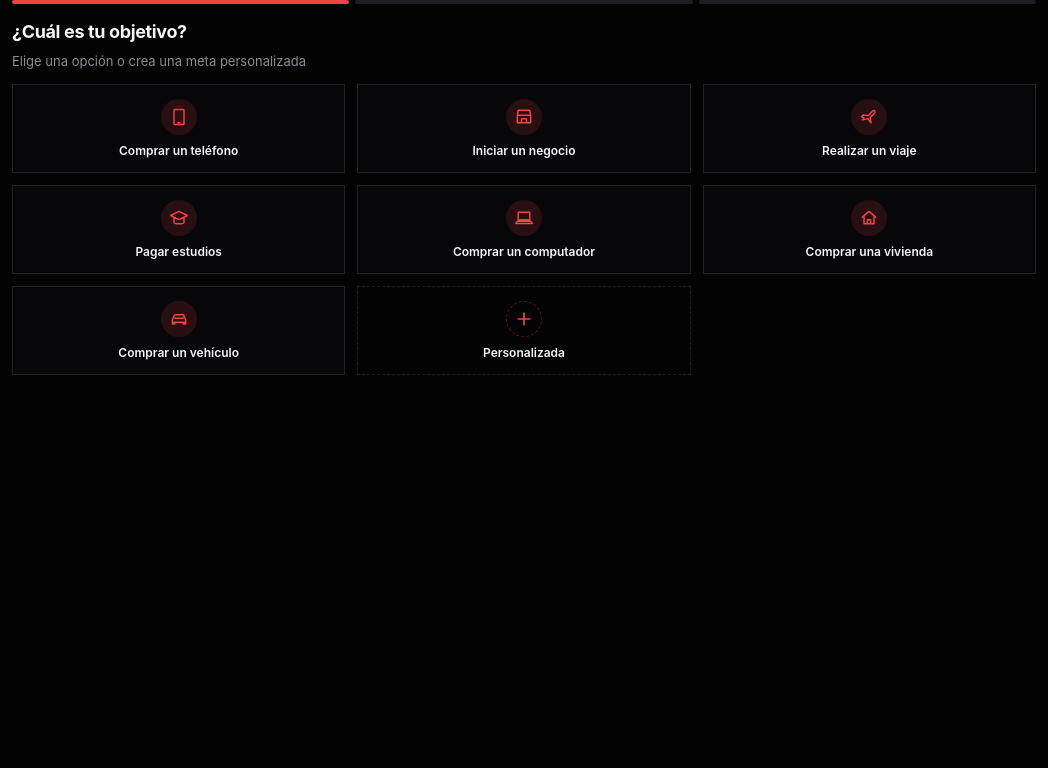
Test: CreateGoalWizard › "Continuar" avanza al resumen con los datos correctos
Click the button with class "type-tile-custom".
click(524, 330)  # box [357,286,691,375]
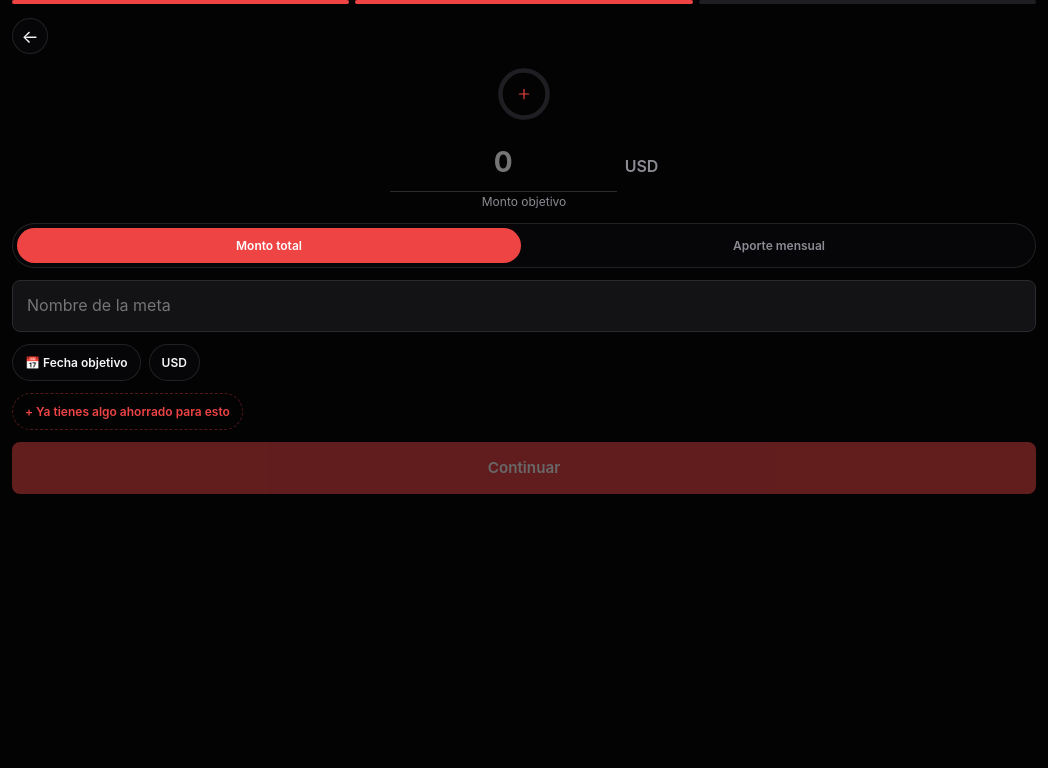
Type "MacBook" into the field with class "wizard-title-input".
click(524, 306); type("MacBook")  # box [12,280,1036,332]
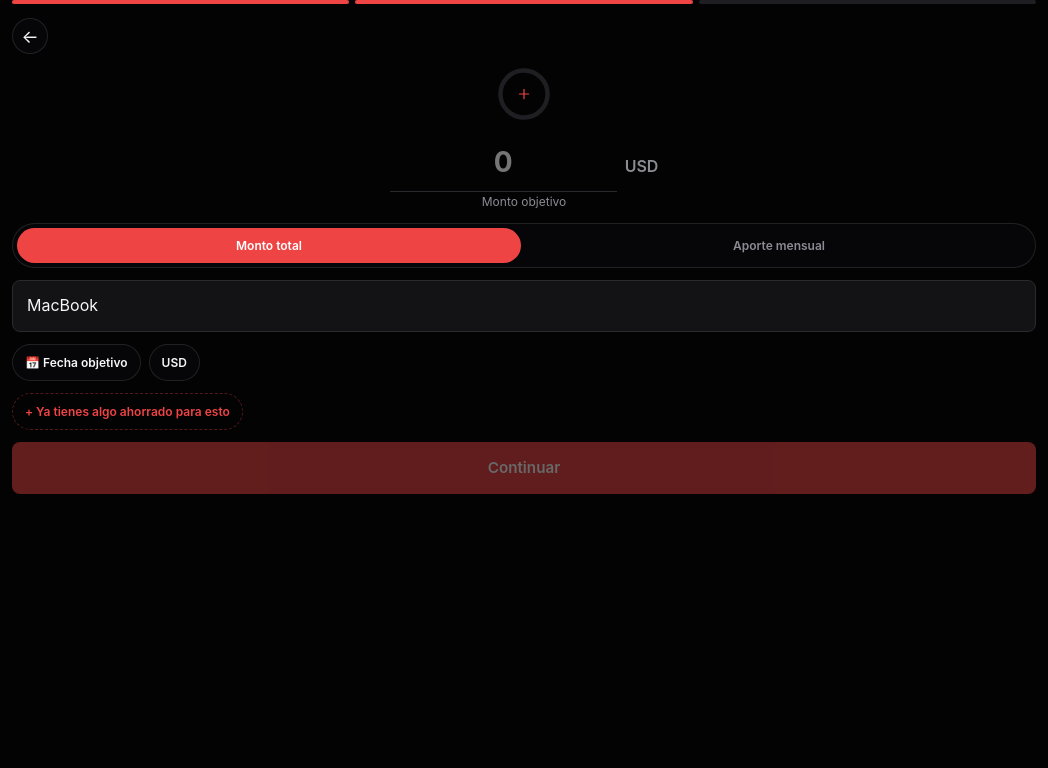
Type "2026-12-28" into the date field labelled "📅 Fecha objetivo".
click(76, 362); type("2026-12-28")  # box [12,344,140,381]
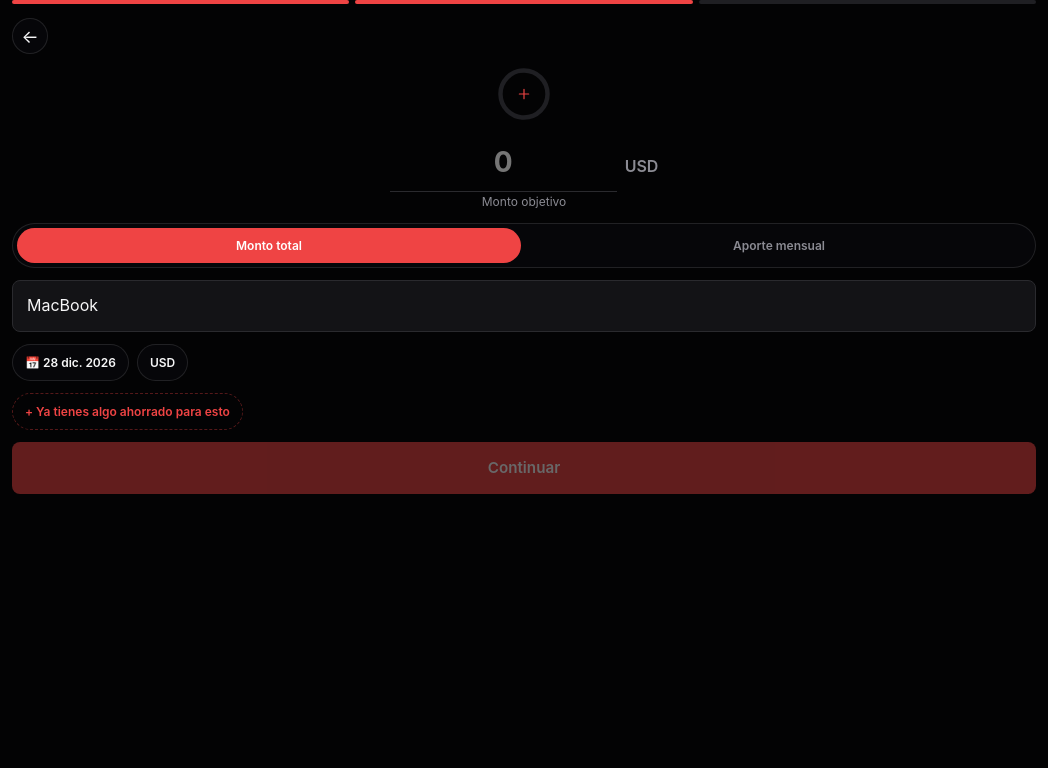
Type "1200" into the field with class "wizard-amount-input".
click(503, 163); type("1200")  # box [390,134,617,192]
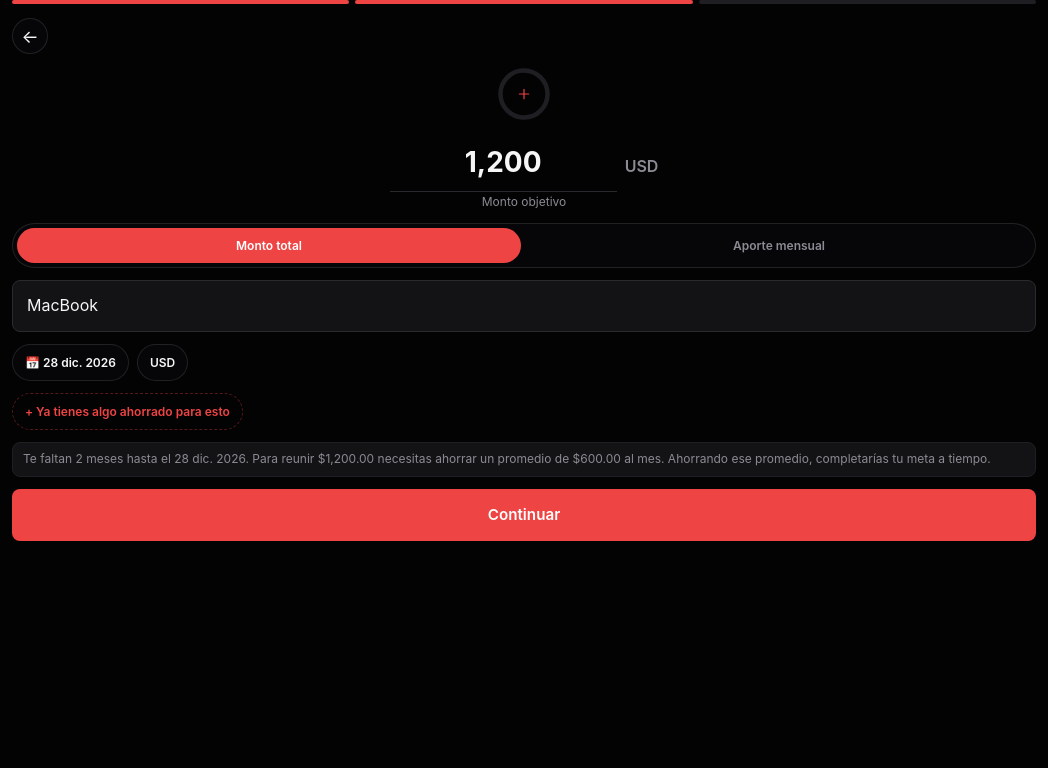
Click the button with class "wizard-next".
click(524, 515)  # box [12,489,1036,541]
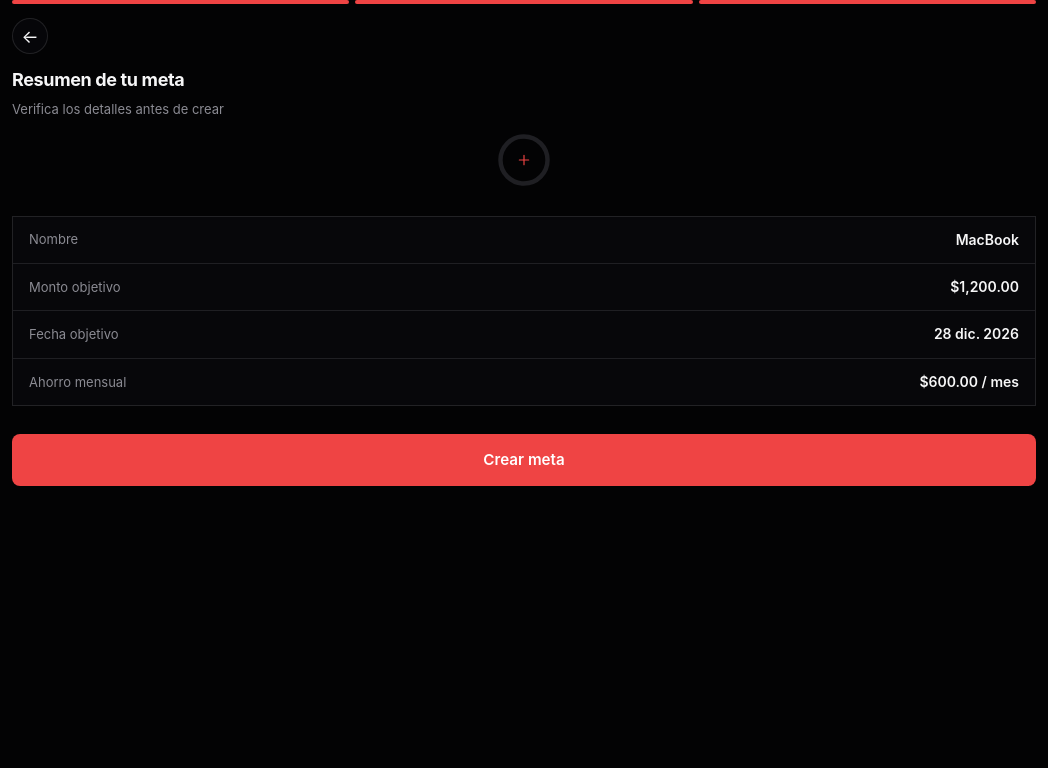
expect the text "$1,200.00" is shown: met, box [950,276,1019,298]
expect the text "Resumen de tu meta" is shown: met, box [12,69,184,90]
expect the text "MacBook" is shown: met, box [956,229,1019,251]
